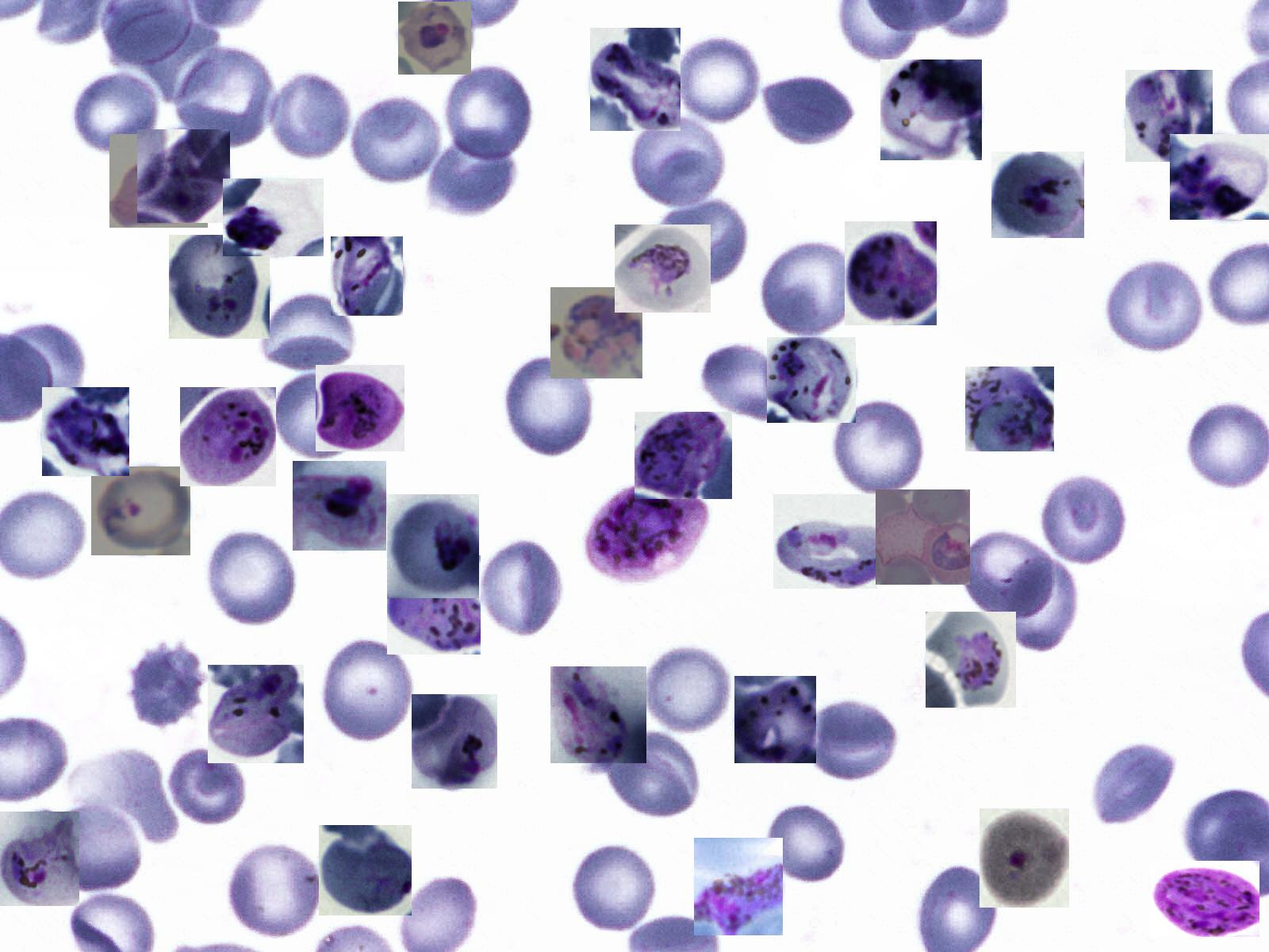Infected: (580, 479, 715, 585), (169, 235, 270, 339), (880, 60, 982, 160), (773, 494, 877, 589), (845, 221, 937, 325), (387, 494, 479, 598), (180, 387, 276, 486), (208, 665, 304, 763), (590, 28, 681, 131), (550, 666, 646, 763), (387, 555, 481, 654), (109, 134, 208, 228), (876, 489, 970, 585), (980, 808, 1069, 908), (91, 466, 190, 555), (137, 129, 230, 223), (926, 612, 1016, 708), (694, 838, 783, 935), (634, 412, 732, 499), (1170, 134, 1269, 220), (319, 825, 412, 916), (615, 225, 711, 313), (550, 287, 642, 378), (293, 461, 386, 551), (1150, 861, 1259, 937), (1125, 70, 1213, 162), (412, 694, 497, 789), (991, 152, 1084, 238), (223, 178, 324, 256), (767, 337, 856, 423), (43, 387, 129, 476), (316, 365, 404, 451), (965, 367, 1054, 451), (0, 812, 79, 906), (735, 676, 816, 763), (331, 236, 403, 316), (398, 2, 471, 75)
Uninfected: (1101, 251, 1210, 354), (319, 633, 415, 747), (174, 43, 276, 149), (69, 744, 178, 843), (109, 6, 224, 98), (760, 236, 857, 339), (504, 352, 595, 459), (631, 111, 727, 206), (961, 529, 1057, 624), (833, 397, 924, 497), (43, 801, 144, 891), (446, 58, 534, 160), (228, 843, 320, 939), (271, 367, 363, 463), (208, 529, 297, 628), (601, 727, 699, 816), (423, 124, 516, 217), (351, 93, 444, 185), (639, 643, 732, 734), (259, 291, 358, 374), (803, 697, 897, 784), (650, 202, 747, 286), (481, 540, 562, 639), (999, 554, 1079, 654), (268, 69, 352, 163), (699, 340, 796, 421), (1041, 473, 1125, 566), (1089, 742, 1179, 828), (3, 319, 89, 409), (572, 839, 656, 931), (677, 33, 761, 124), (66, 73, 163, 149), (128, 638, 206, 732), (1187, 400, 1267, 491), (758, 70, 854, 145), (765, 801, 846, 888), (167, 747, 246, 830)
